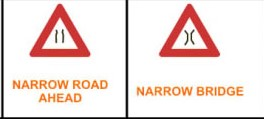Traffic signal: (29, 3, 92, 59), (159, 4, 223, 58)
